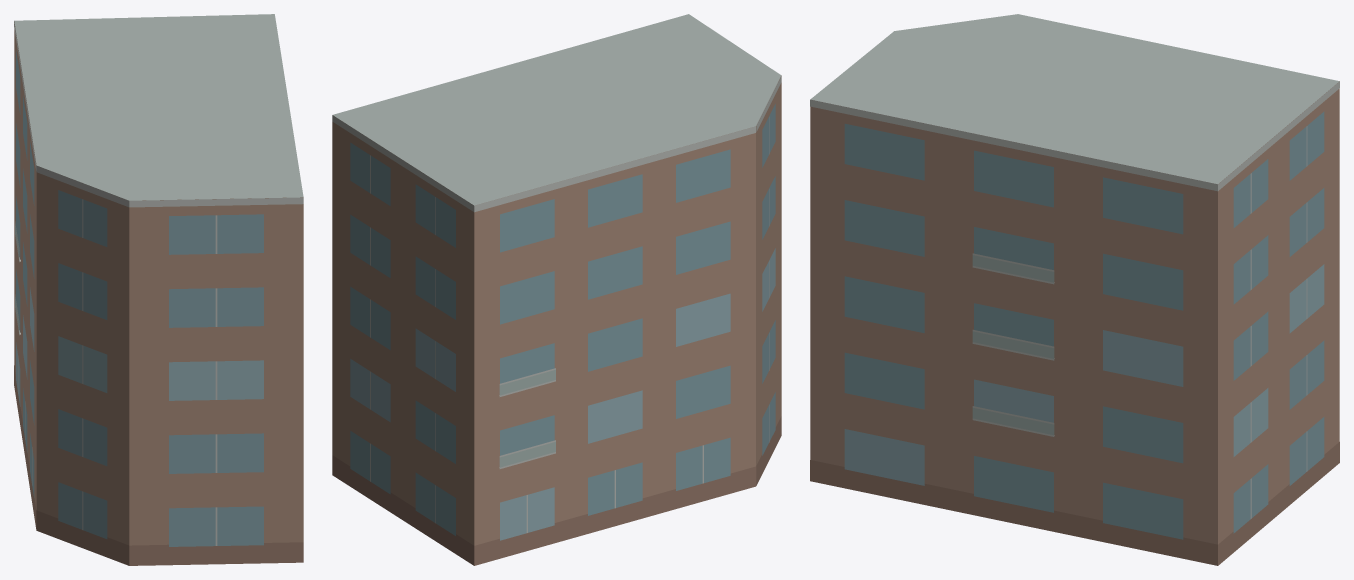
Rendered from survey-upis-32885197.glb.
The picture shows the model from 3 angles, left to right: view 1: azimuth 30°, elevation 25°; view 2: azimuth 150°, elevation 25°; view 3: azimuth 270°, elevation 25°; orthographic projection. The views are drawn at different scales.
Visible parts, largest first — view 1: survey-upis-32885197.tmp; view 2: survey-upis-32885197.tmp; view 3: survey-upis-32885197.tmp.
Boxes of the visible parts, left/top/right/bottom form: survey-upis-32885197.tmp: left=14, top=14, right=303, bottom=565; survey-upis-32885197.tmp: left=332, top=14, right=781, bottom=565; survey-upis-32885197.tmp: left=810, top=14, right=1339, bottom=565.
Size of the model in its own units: 12.64 by 13.2 by 16.61.
